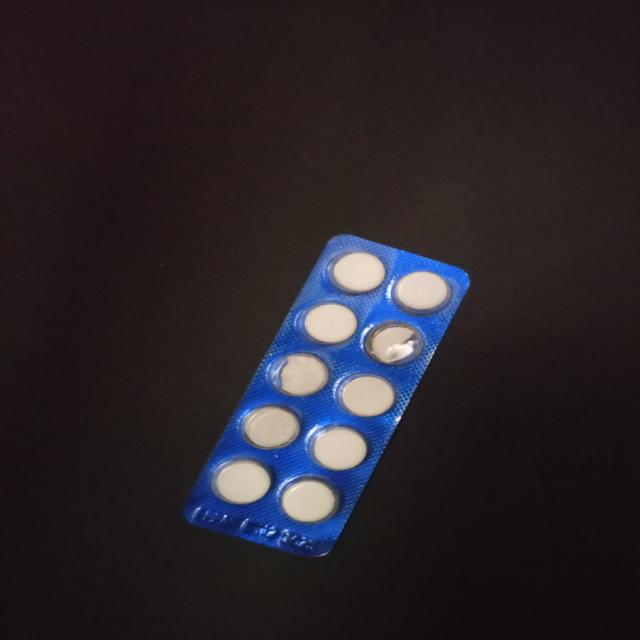defect: (264, 350, 332, 399), (362, 320, 425, 368)
